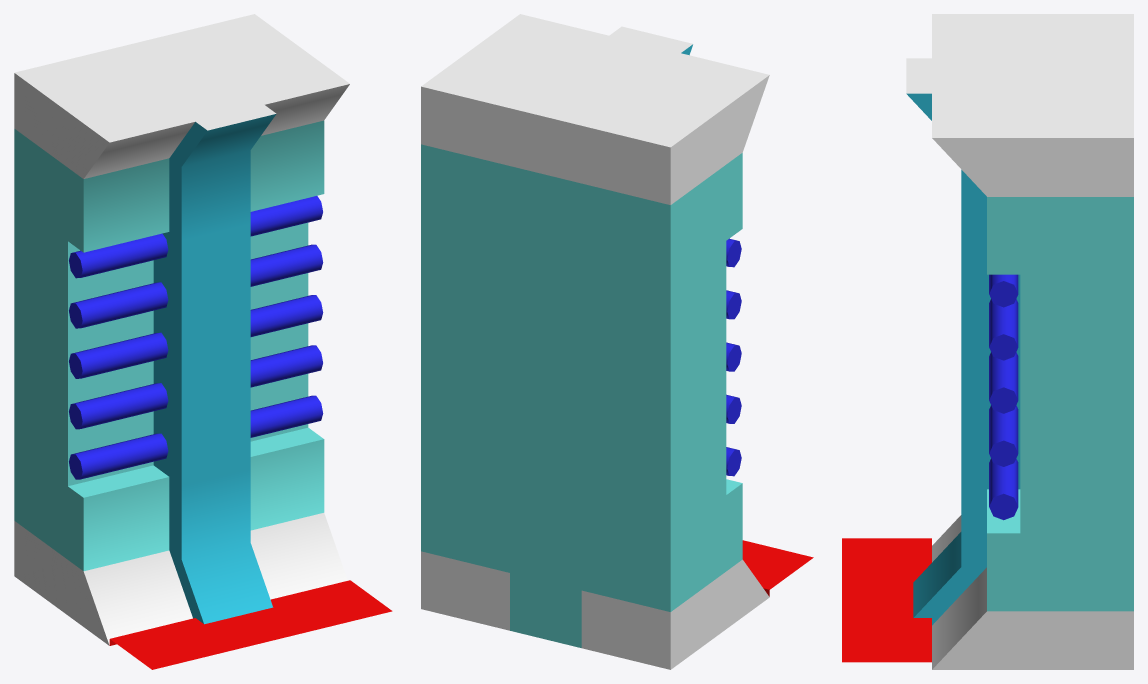
File: Wall-Column.fbx
3 views of the same model, side by side, from view 1: azimuth 30°, elevation 25°; view 2: azimuth 150°, elevation 25°; view 3: azimuth 270°, elevation 25° (orthographic). The views are drawn at different scales.
Parts seen in each view (by area): view 1: Column; view 2: Column; view 3: Column.
Part boxes in pixels (x1,y1,x2,y2): Column: (14,14,392,669); Column: (421,14,813,669); Column: (842,14,1133,669).
Size of the model in its own units: 78.74 by 157 by 78.28.
